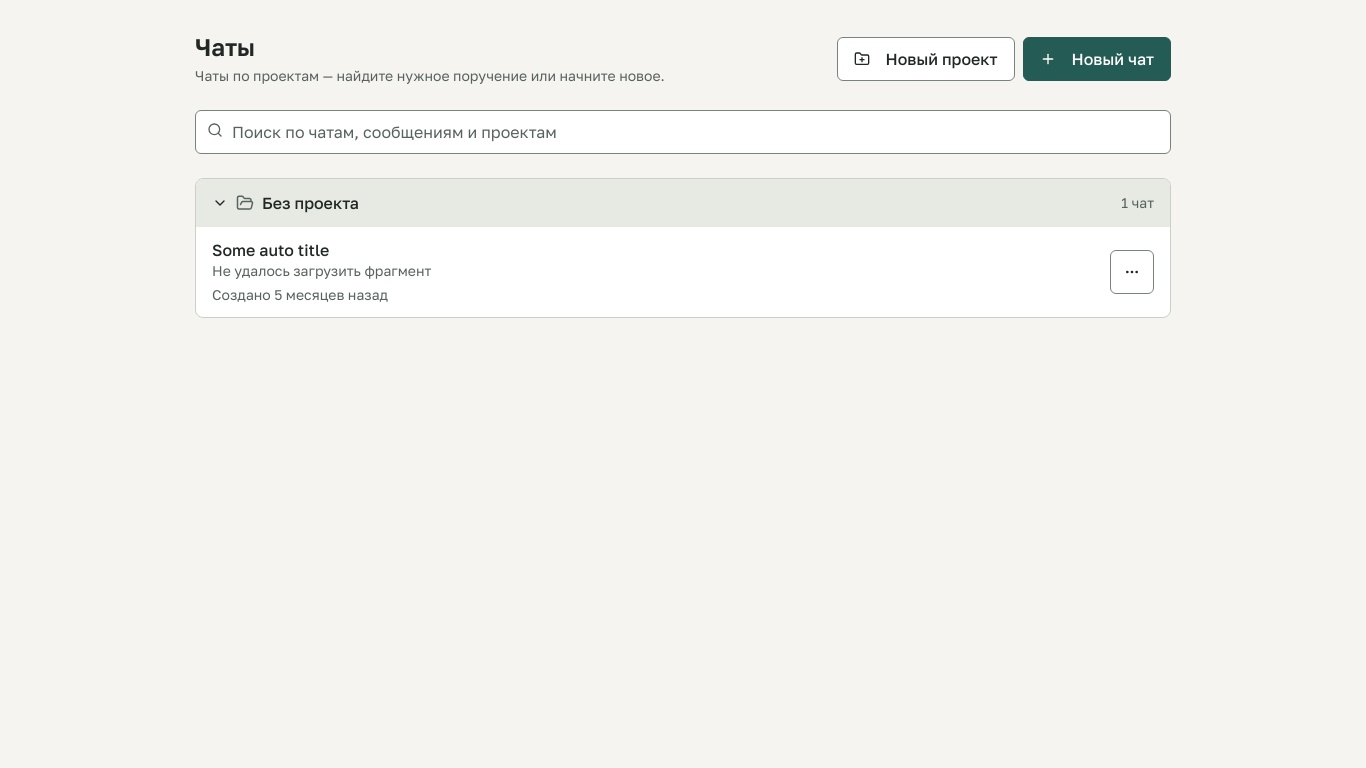
Test: regenerateTitle 409 → verbatim Russian toast › toasts the verbatim Russian body when server returns 409 title_is_manual
Expected: the text "Some auto title" is shown, [212, 240, 329, 260]
Click the button named "Меню чата «Some auto title»" at point(1132, 272), box [1110, 250, 1154, 294]
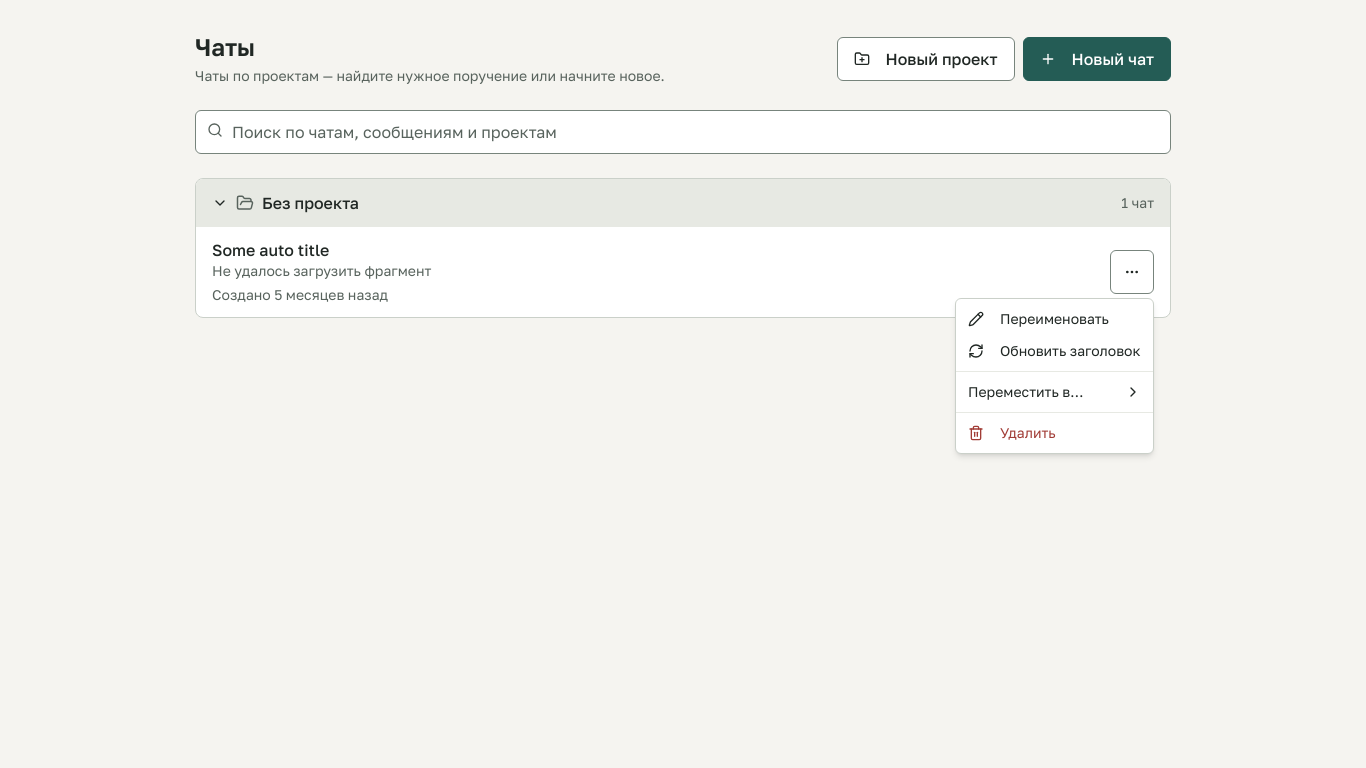
Click the menu item "Обновить заголовок" at point(1054, 350), box [968, 342, 1141, 359]
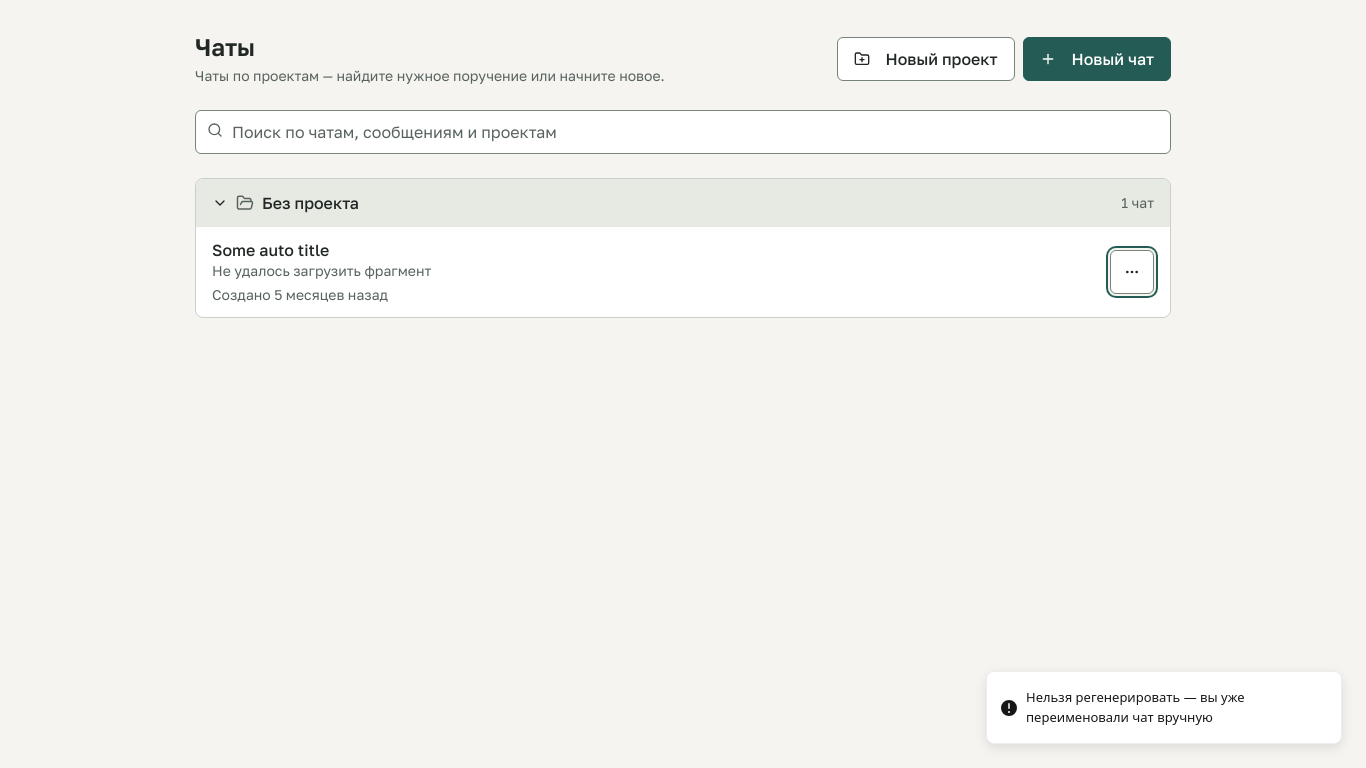
Expected: the text "Нельзя регенерировать — вы уже переименовали чат вручную" is shown, [1026, 688, 1244, 726]
